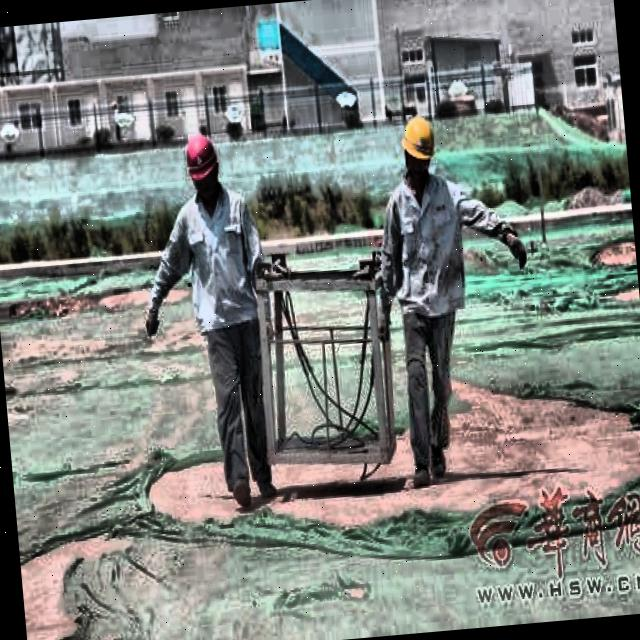helmet: (392, 102, 442, 190), (178, 120, 225, 206)
